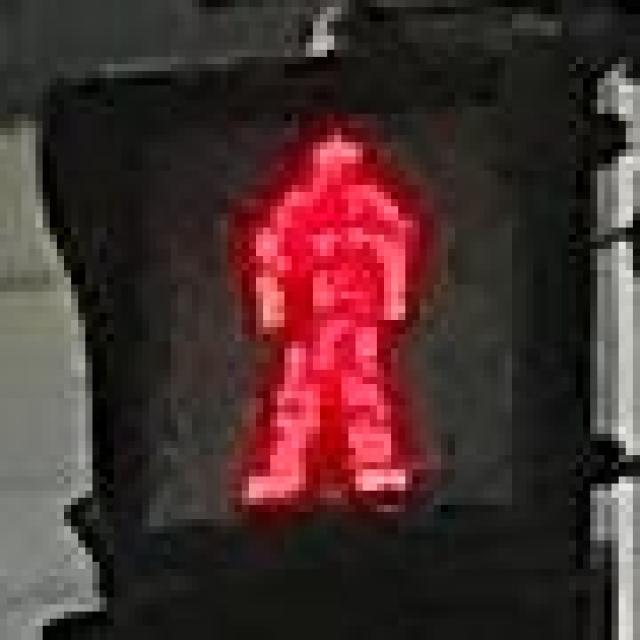red-crossing: (114, 100, 512, 526)
